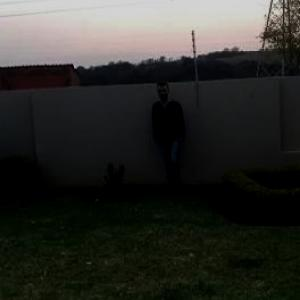follow: (152, 78, 188, 195)
